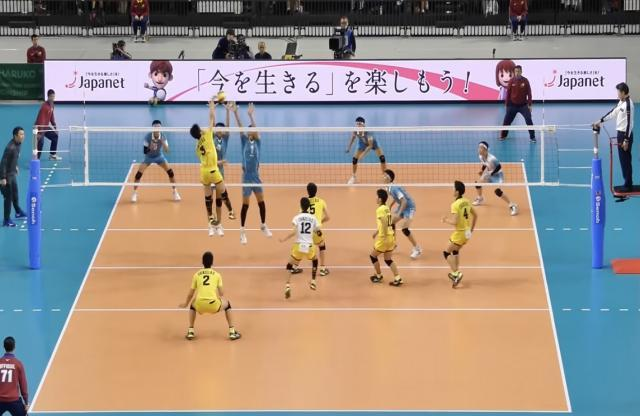spike: (189, 90, 231, 238)
